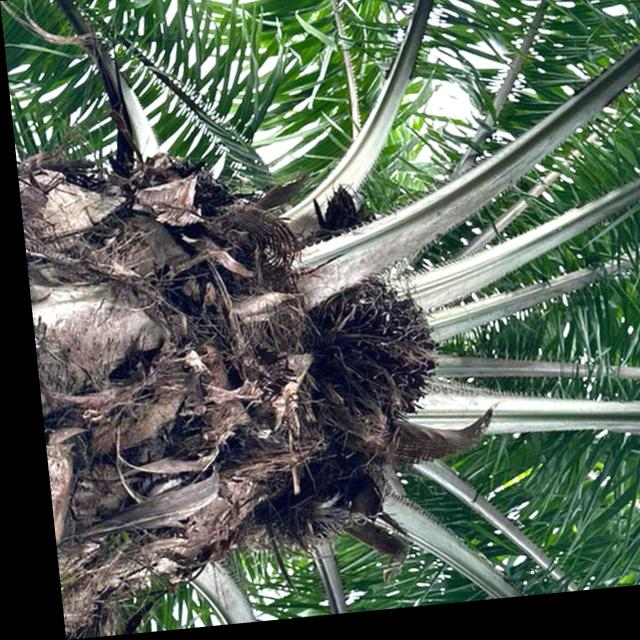almost: (302, 266, 439, 444)
